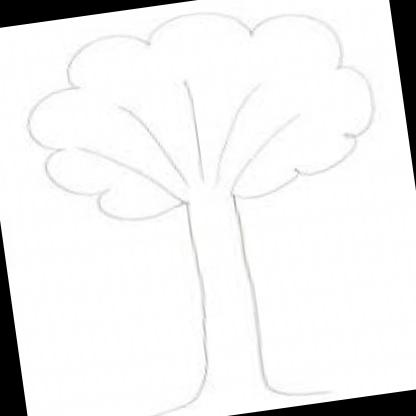branch_line: (73, 64, 310, 210)
crown_cloud: (14, 0, 385, 234)
trunk_straight: (186, 214, 264, 364)
